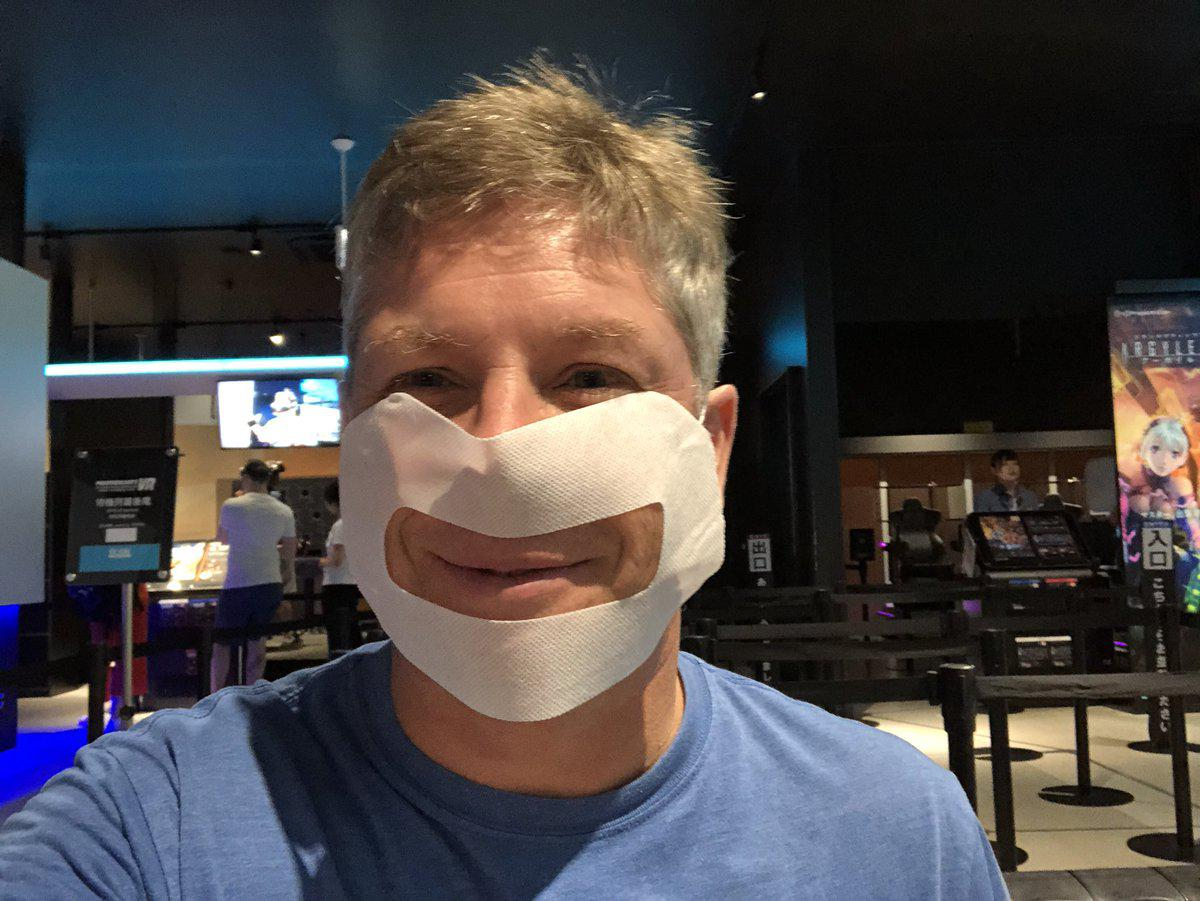WRONG: (332, 285, 709, 669)
